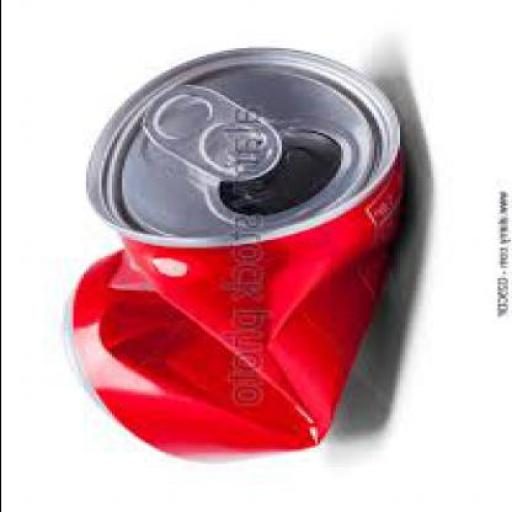metal: (59, 44, 406, 458)
